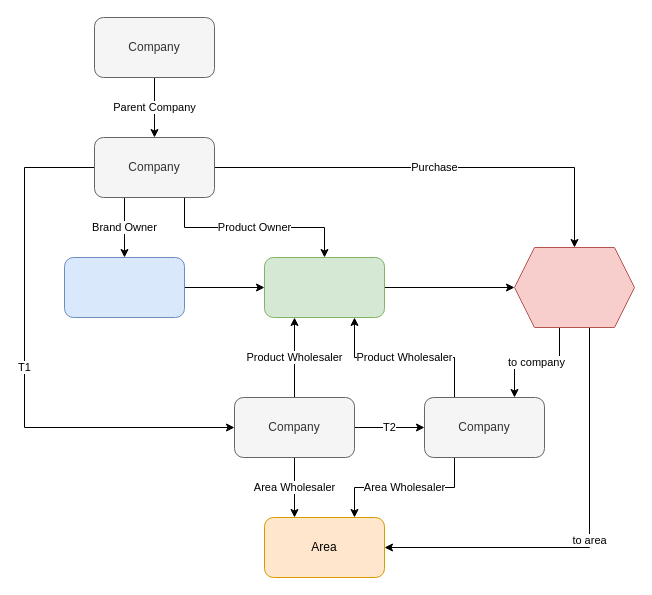
Image size: 652x595. Some labels were removed from this diagram. Here are the shapes that lost their labels. From the top down, the centre of each, then its label:
At point (124, 287): "Brand".
At point (324, 287): "Product".
At point (574, 287): "Price".
